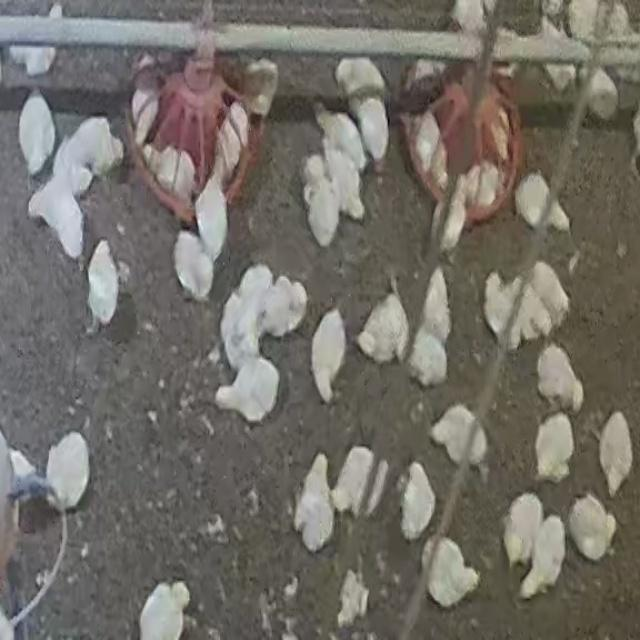chicken: (31, 182, 102, 286), (80, 239, 150, 328), (306, 313, 366, 413), (132, 577, 225, 640), (295, 153, 367, 226), (213, 366, 283, 441), (13, 88, 63, 191), (386, 464, 444, 547), (524, 346, 582, 422), (481, 276, 536, 354), (314, 103, 370, 175), (429, 406, 485, 478), (44, 432, 89, 520), (424, 266, 469, 352), (600, 411, 640, 502), (356, 91, 404, 161), (342, 449, 391, 517), (425, 539, 475, 605), (295, 457, 335, 539), (564, 495, 613, 561), (46, 134, 96, 195), (210, 311, 256, 372), (528, 268, 568, 336), (70, 115, 117, 172), (196, 193, 232, 267), (413, 337, 455, 399), (266, 269, 304, 336), (368, 289, 398, 373), (508, 193, 552, 249), (500, 493, 539, 555), (540, 506, 566, 588), (534, 422, 570, 481), (344, 59, 392, 102), (305, 188, 337, 251), (230, 109, 268, 162), (594, 90, 630, 140), (182, 232, 210, 296), (412, 114, 442, 171), (235, 269, 269, 315), (462, 157, 491, 207), (442, 194, 466, 253), (438, 148, 465, 197), (200, 129, 228, 172), (494, 170, 521, 212), (386, 500, 438, 519), (231, 126, 246, 172)
